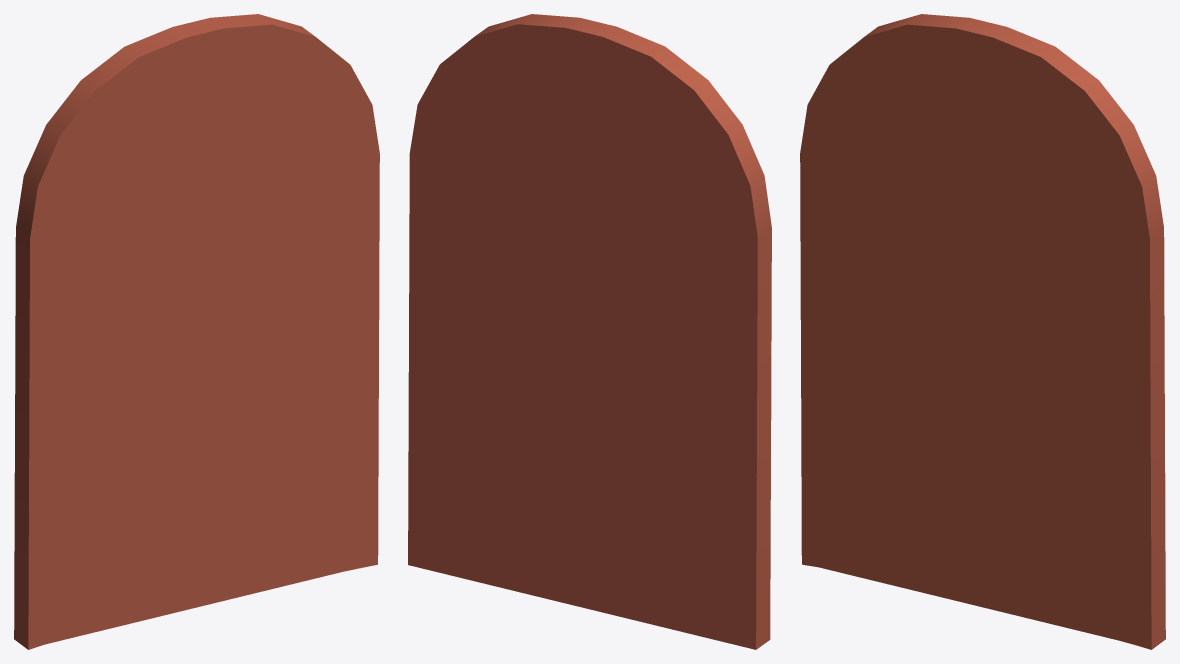
File: phone keypad (1).fbx
3 renders of one model, left to right at view 1: azimuth 30°, elevation 25°; view 2: azimuth 150°, elevation 25°; view 3: azimuth 330°, elevation 25°, orthographic.
Visible parts, largest first — view 1: Cube.001; view 2: Cube.001; view 3: Cube.001.
Part boxes in pixels (box(x1,y1,x2,y2)): Cube.001: box(14, 14, 379, 649); Cube.001: box(408, 14, 771, 649); Cube.001: box(800, 14, 1165, 649).
Bounding box in the file's own units: 234 × 368 × 19.29.
